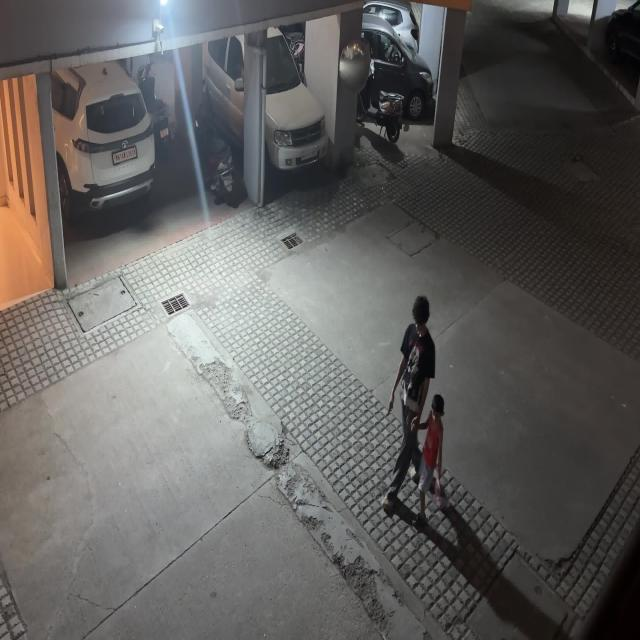human: (382, 282, 436, 529), (412, 356, 448, 539)
trash: (434, 474, 452, 520)
